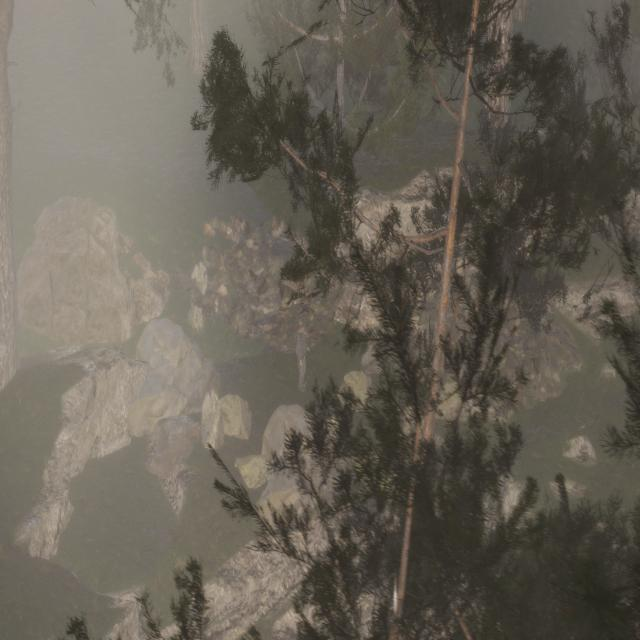Human: (288, 308, 314, 406)
